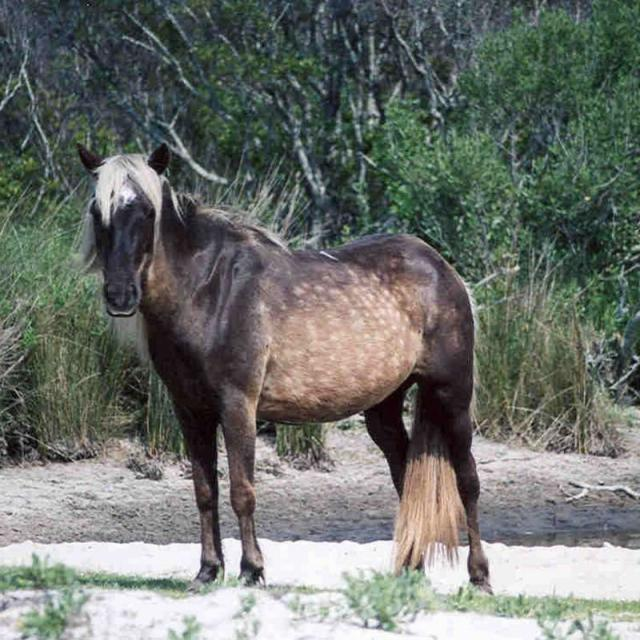horse: (79, 145, 490, 591)
